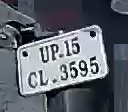1: (63, 37, 72, 58)
3: (58, 63, 70, 82)
5: (67, 58, 79, 82), (89, 54, 102, 76), (70, 37, 83, 56)
9: (78, 59, 90, 79)
C: (25, 70, 39, 91)
L: (37, 67, 50, 88)
P: (49, 42, 60, 64)
U: (40, 45, 51, 65)
